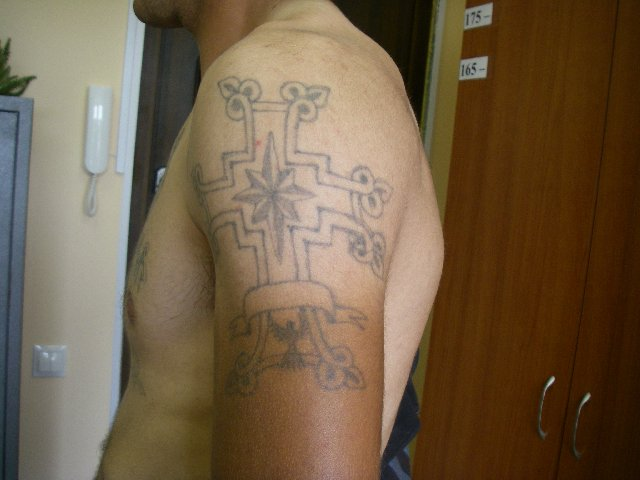tatu9_krest: (188, 71, 400, 410)
